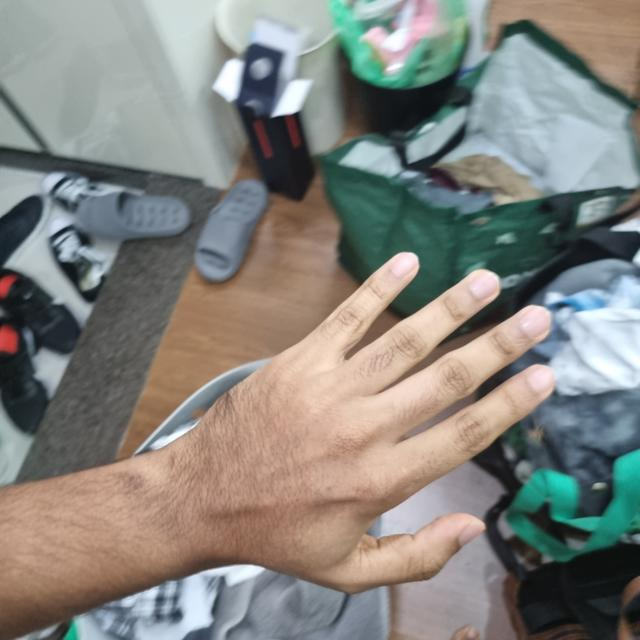Paper: (173, 250, 555, 587)
